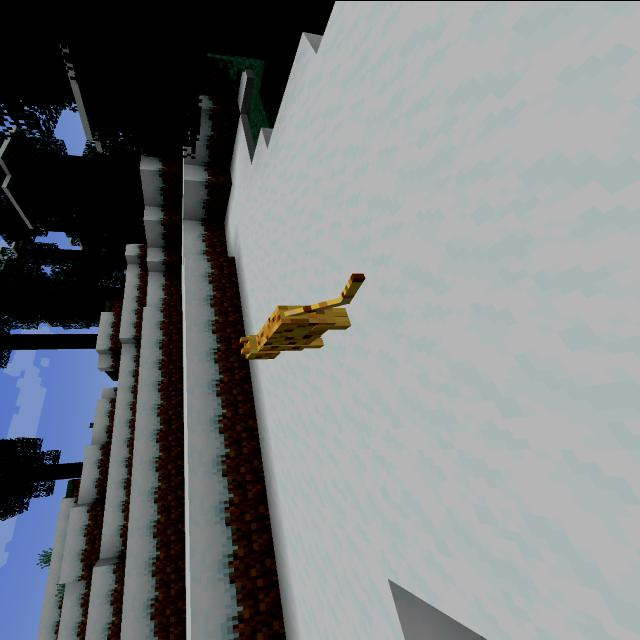Ocelot: (223, 263, 391, 365)
